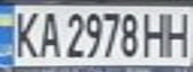2: (63, 8, 84, 60)
7: (100, 9, 121, 58)
8: (118, 9, 142, 58)
9: (81, 8, 106, 59)
A: (33, 8, 60, 60)
H: (160, 8, 193, 59), (139, 9, 172, 58)
K: (6, 7, 42, 60)
